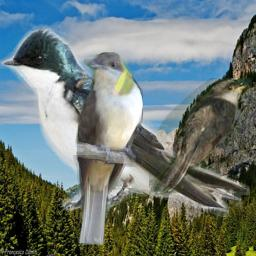Cuckoo: (73, 52, 143, 245), (149, 78, 252, 198)
Swallow: (0, 25, 250, 217)
